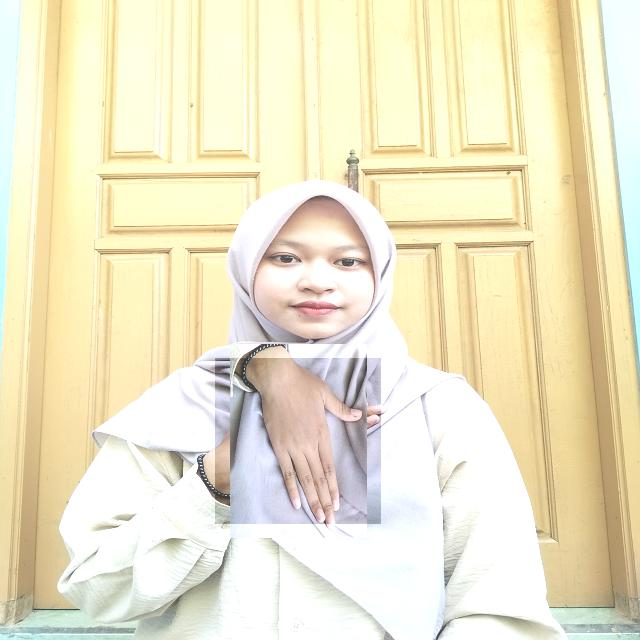tolong: (215, 358, 381, 524)
